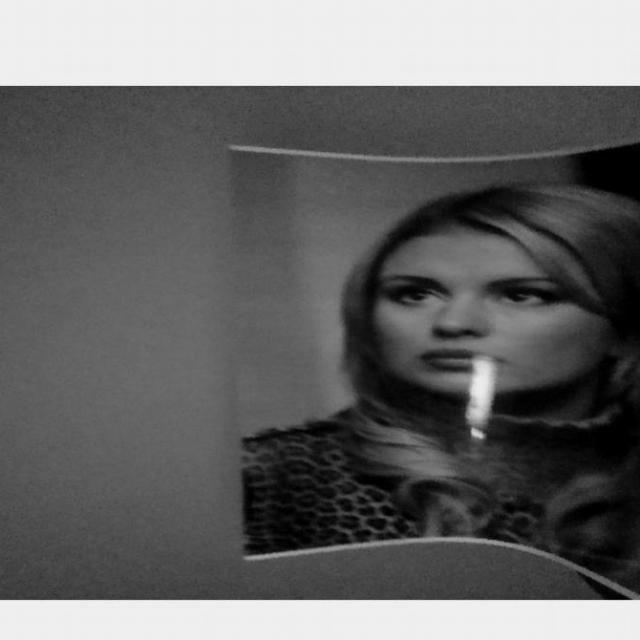fake: (222, 134, 640, 597)
